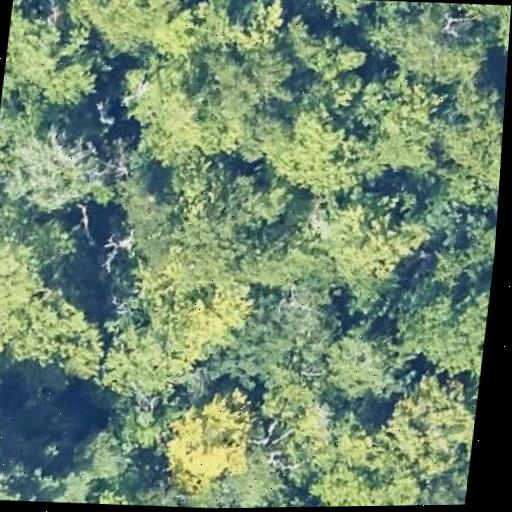tree-top: (106, 172, 300, 297), (88, 276, 250, 401), (28, 386, 176, 508), (197, 279, 341, 390), (295, 183, 430, 297), (108, 67, 238, 175), (356, 0, 496, 92), (0, 2, 109, 119), (253, 98, 374, 201), (155, 380, 259, 498), (2, 117, 122, 214), (4, 285, 113, 386), (433, 76, 506, 219), (390, 274, 492, 376), (194, 34, 306, 122), (382, 370, 474, 472), (271, 397, 367, 491), (0, 223, 57, 369), (321, 319, 417, 405), (273, 15, 375, 90), (79, 0, 189, 62), (314, 451, 431, 507), (367, 86, 444, 168), (427, 205, 498, 289), (225, 444, 291, 508), (358, 0, 492, 25), (0, 397, 32, 501), (422, 457, 470, 505), (312, 0, 377, 35), (0, 88, 16, 201), (481, 4, 511, 63)
